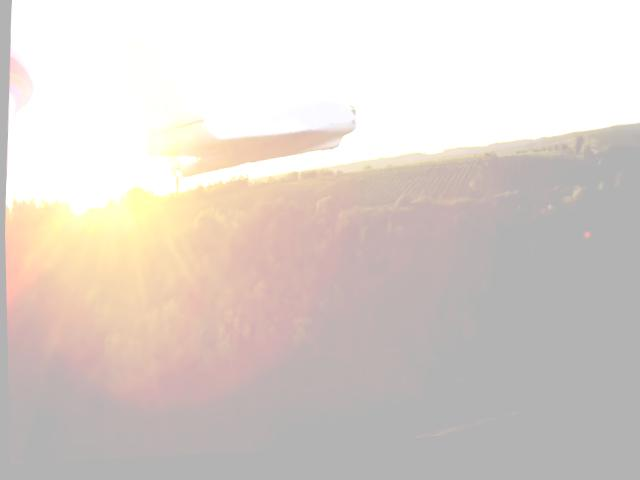plane: (98, 12, 368, 197)
